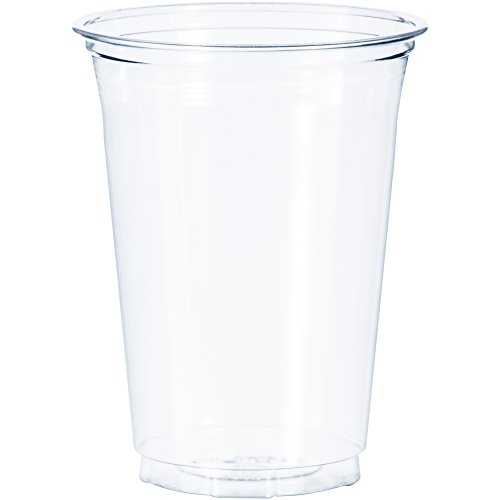plastic_glass: (69, 1, 448, 500)
